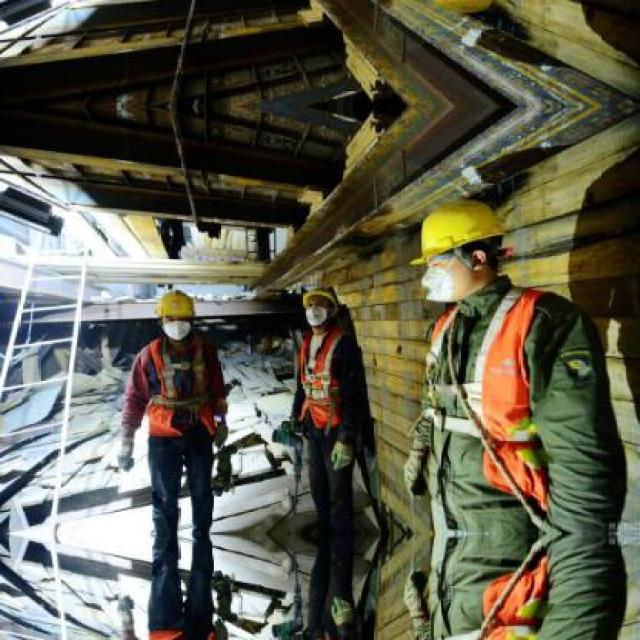helmet: (412, 197, 506, 295), (150, 285, 198, 343), (299, 284, 341, 328)
